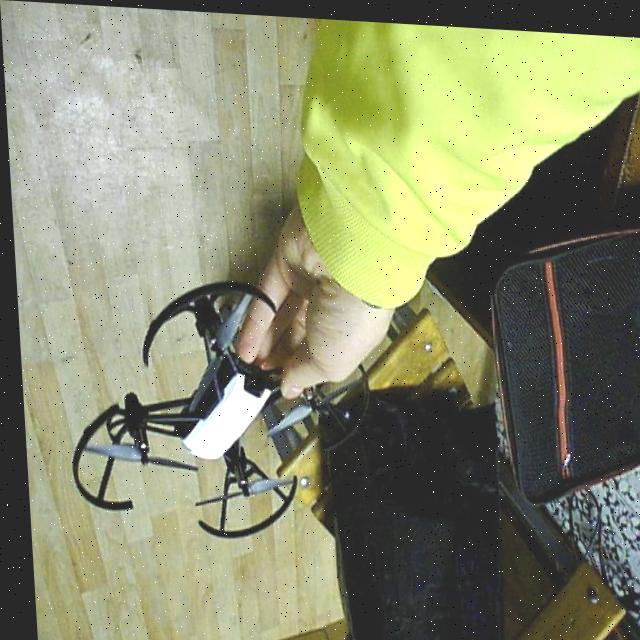drone: (48, 256, 374, 550)
